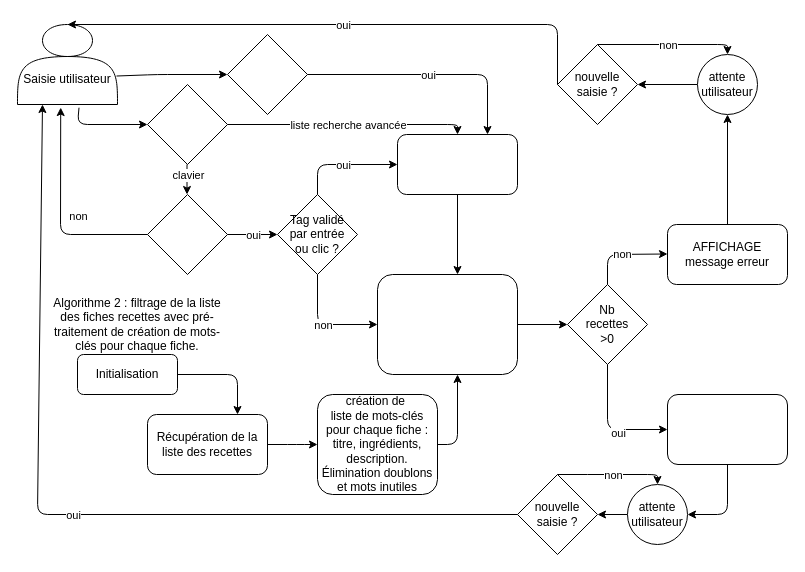
The diagram is 805 pixels wide and 572 high, and some of its shapes have lost their labels. The box of each missing label's shape, as (x1, y1, x2, y2) in pixels:
AFFICHAGE des fiches recettes actualisé: (666, 394, 788, 464)
FILTRE FILTER EVERY-SOME liste de mots-clés /saisies utilisateur: (376, 274, 518, 374)
modification de la liste des tags: (396, 134, 518, 194)
plus de 3 caractères ?: (146, 194, 228, 274)
saisie clavier ou liste ?: (146, 84, 228, 164)
suppression tag ?: (226, 34, 308, 114)
